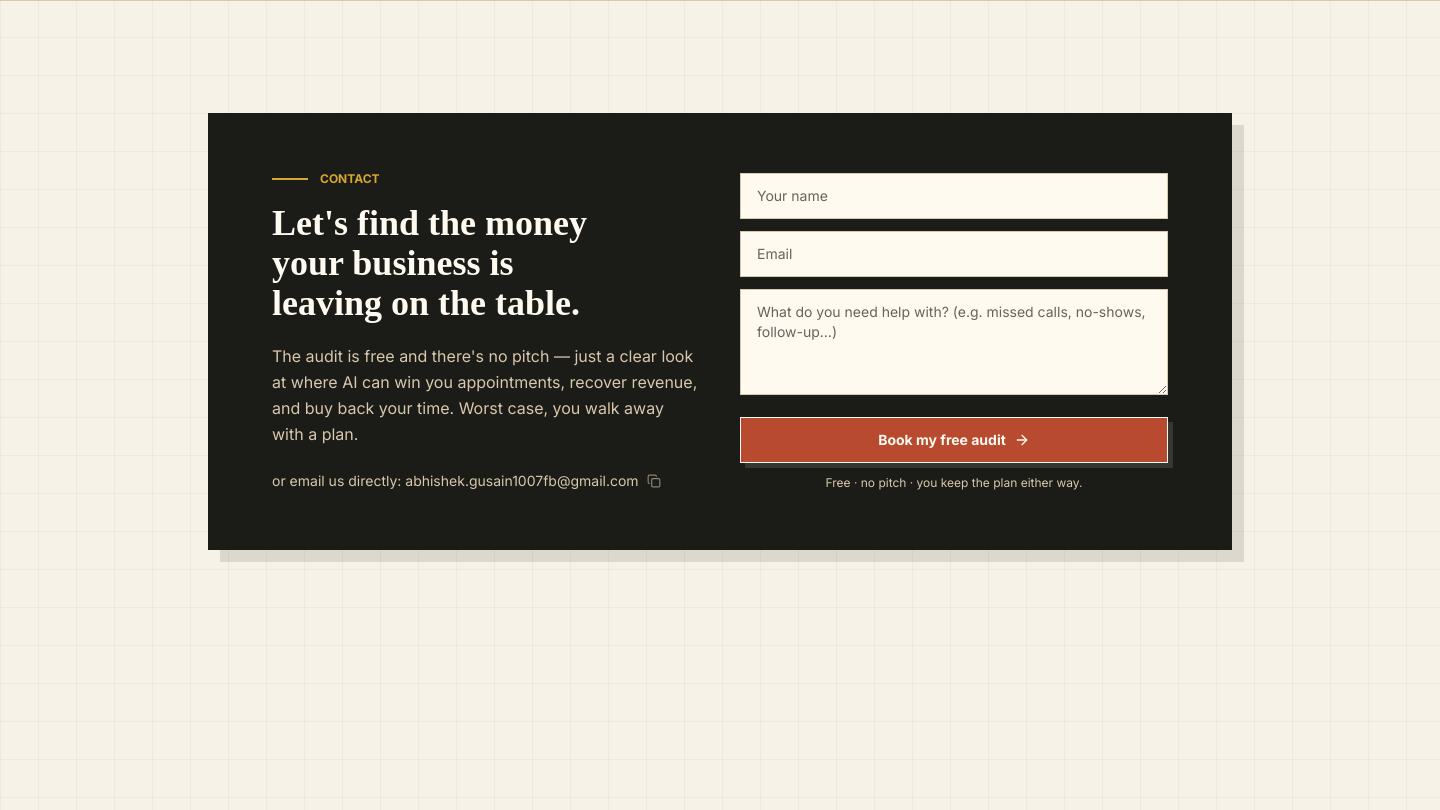
Test: ContactSection (lead form) › blocks submit and shows errors when fields are empty
Step 1. Click the button "Book my free audit" → (954, 440), box x1=740 y1=416 x2=1168 y2=462
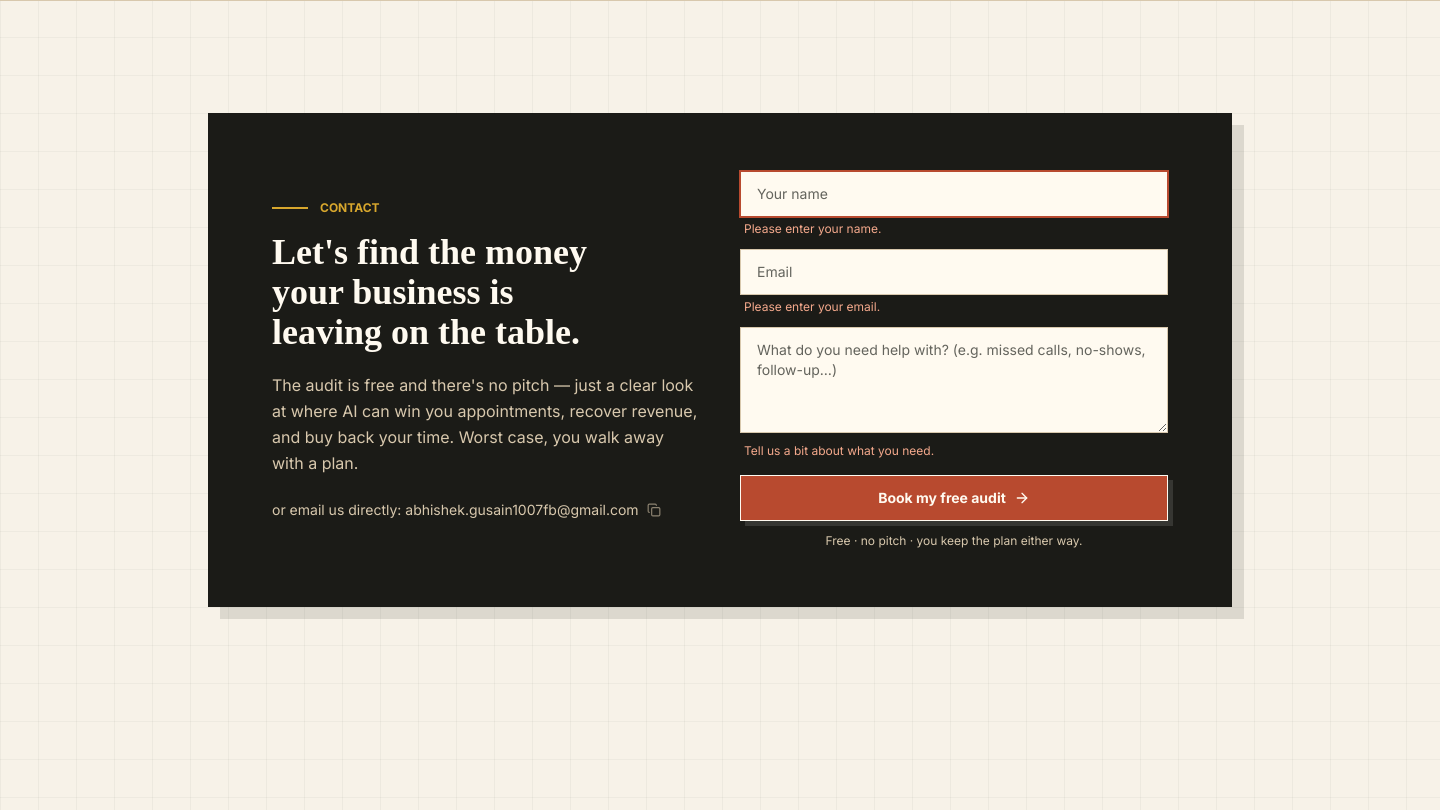
Expected: the text "Please enter your name." is shown, x1=744 y1=221 x2=881 y2=236
